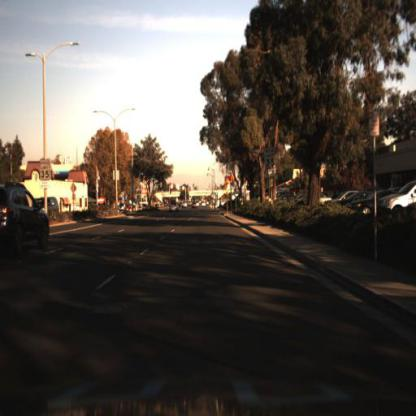car: (0, 176, 53, 262), (316, 187, 336, 206), (167, 200, 179, 216), (116, 199, 127, 215), (168, 198, 179, 214)
